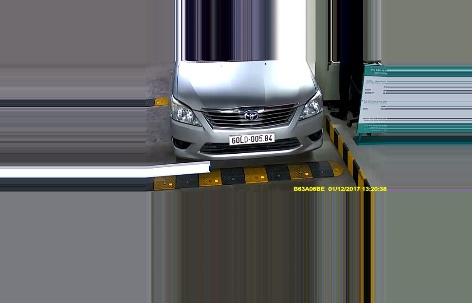plate: (228, 129, 277, 149)
